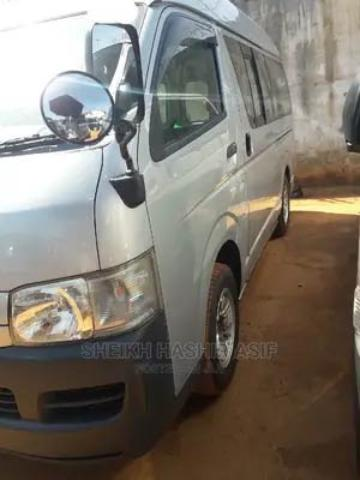van: (0, 4, 293, 466)
